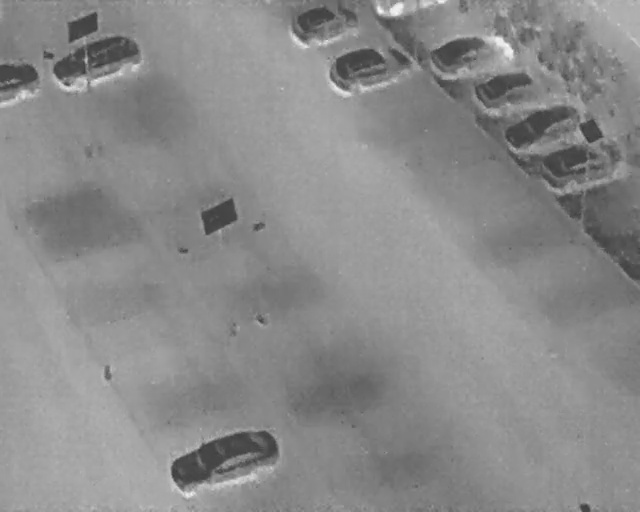Car: (161, 415, 289, 503), (533, 124, 636, 203), (422, 16, 523, 92), (46, 26, 145, 98), (322, 31, 416, 104), (496, 93, 587, 159), (472, 52, 558, 115), (290, 0, 362, 49), (0, 60, 41, 100), (372, 0, 443, 21)
